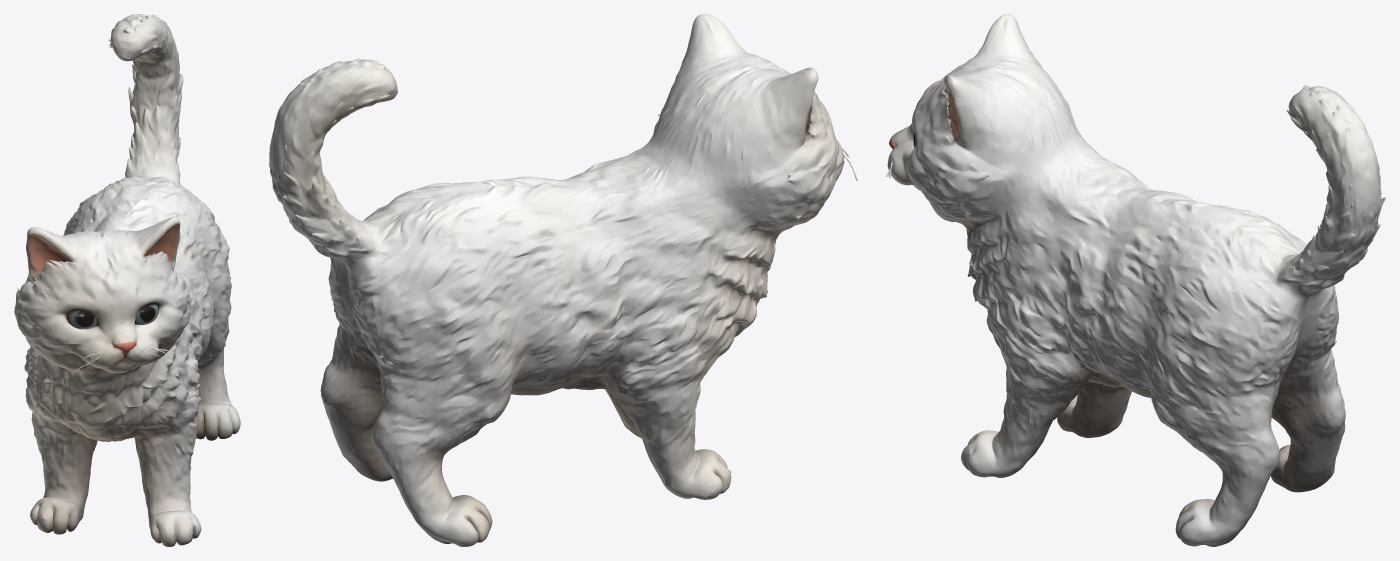
Rendered from white-cat.glb.
3 renders of one model, left to right at view 1: azimuth 30°, elevation 25°; view 2: azimuth 150°, elevation 25°; view 3: azimuth 270°, elevation 25°, orthographic. The views are drawn at different scales.
Parts seen in each view (by area): view 1: tripo_node_612ca679-731e-4723-9e18-cb2d233ecff3; view 2: tripo_node_612ca679-731e-4723-9e18-cb2d233ecff3; view 3: tripo_node_612ca679-731e-4723-9e18-cb2d233ecff3.
Part boxes in pixels (box(x1,y1,x2,y2)): tripo_node_612ca679-731e-4723-9e18-cb2d233ecff3: box(14, 14, 240, 546); tripo_node_612ca679-731e-4723-9e18-cb2d233ecff3: box(269, 14, 857, 546); tripo_node_612ca679-731e-4723-9e18-cb2d233ecff3: box(886, 14, 1385, 546).
Bounding box in the file's own units: 0.8141 × 0.9736 × 1.
Materials: 1 (1 with a texture image).
